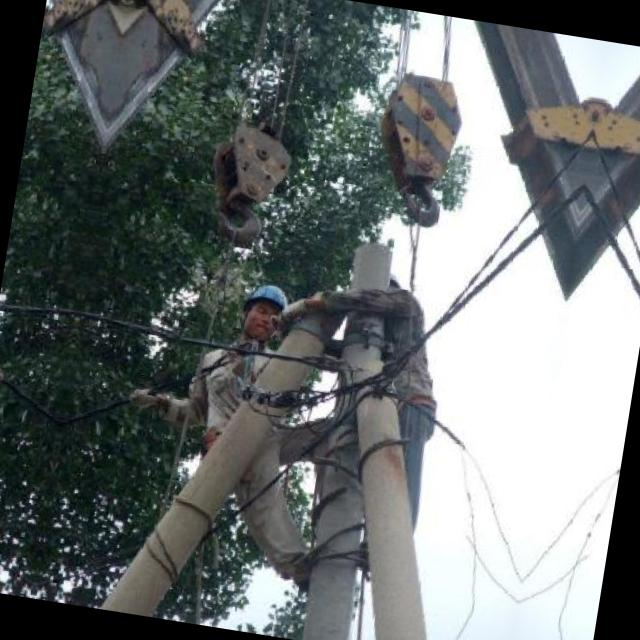helmet: (233, 276, 289, 342)
